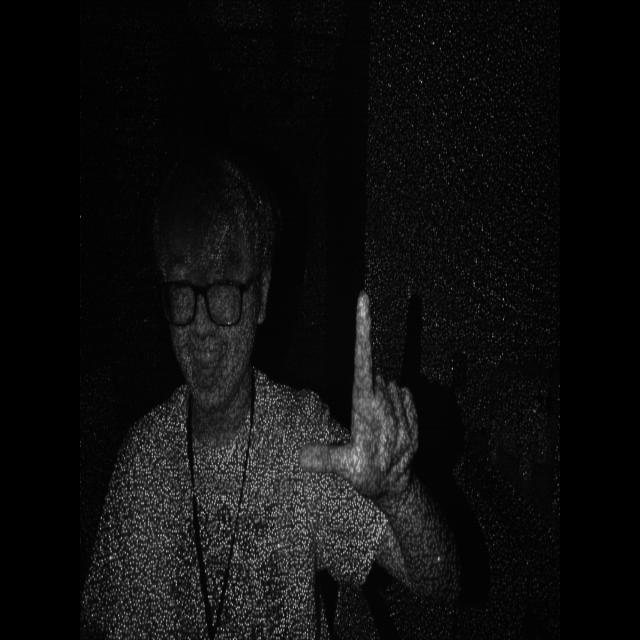L: (294, 264, 425, 509)
